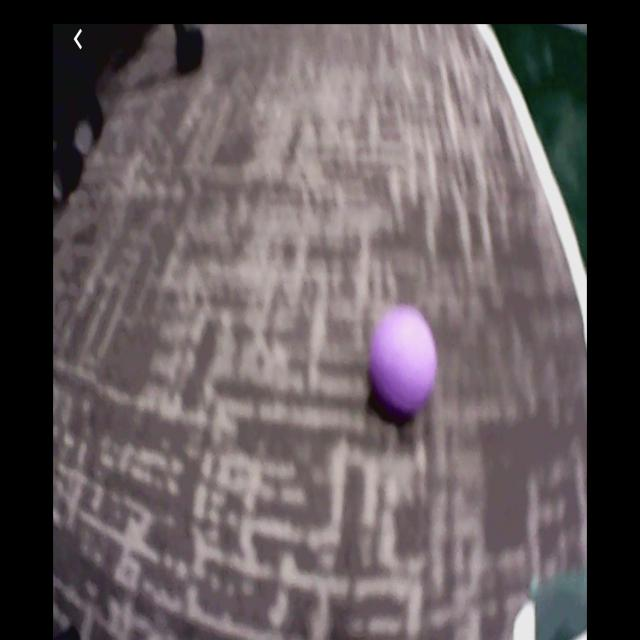ball: (367, 303, 439, 426)
